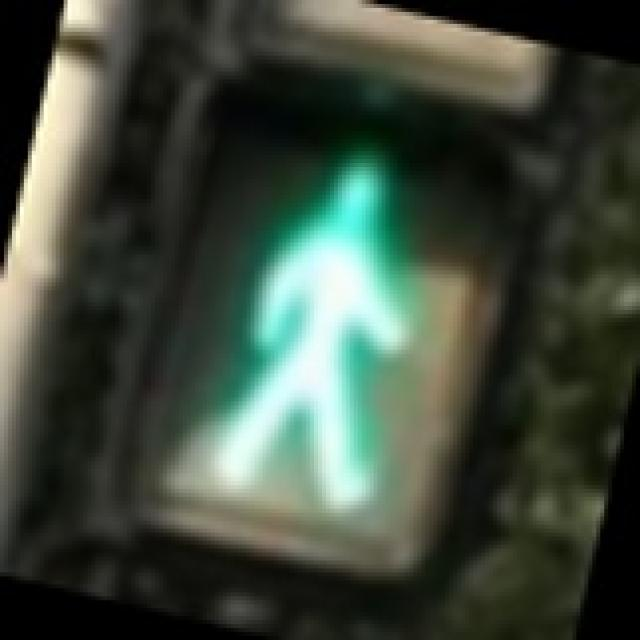geen-crossing: (119, 71, 513, 556)
